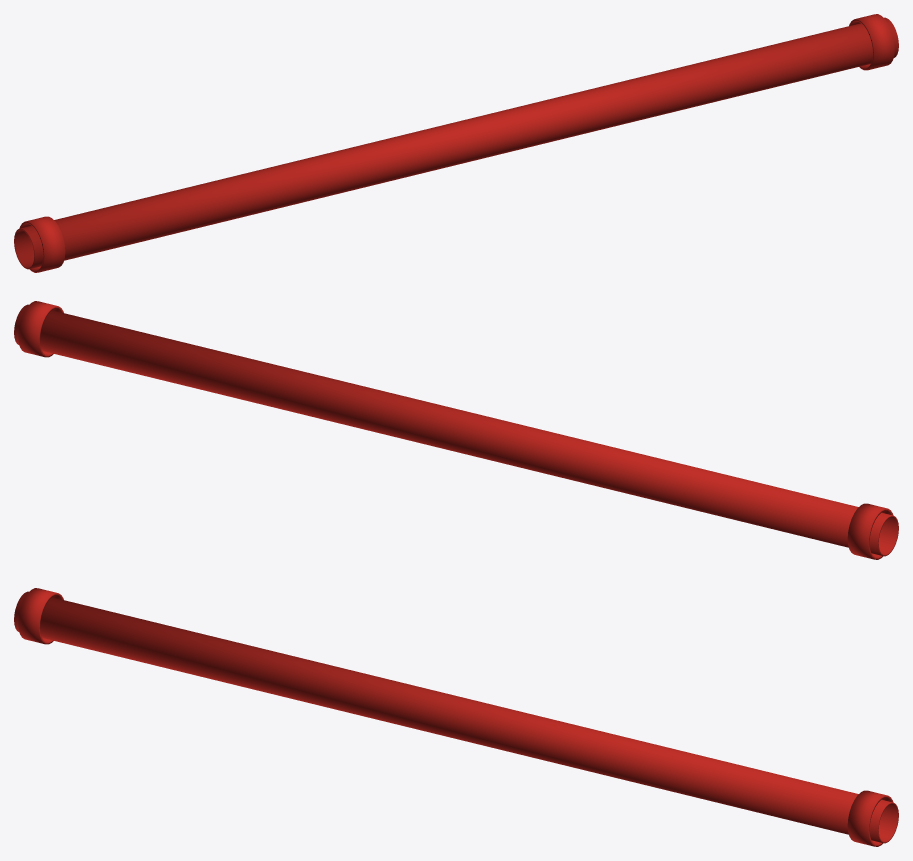
The model's file is SM_WS_FirePipeStraight_2m.fbx.
The picture shows the model from 3 angles, top to bottom: view 1: azimuth 30°, elevation 25°; view 2: azimuth 150°, elevation 25°; view 3: azimuth 330°, elevation 25°; orthographic projection.
Parts seen in each view (by area): view 1: SM_WS_FirePipeStraight_2m; view 2: SM_WS_FirePipeStraight_2m; view 3: SM_WS_FirePipeStraight_2m.
Boxes of the visible parts, <box> form: SM_WS_FirePipeStraight_2m: <box>14,14,898,272</box>; SM_WS_FirePipeStraight_2m: <box>14,301,898,559</box>; SM_WS_FirePipeStraight_2m: <box>14,588,898,846</box>.
Size of the model in its own units: 2 by 0.106 by 0.106.
